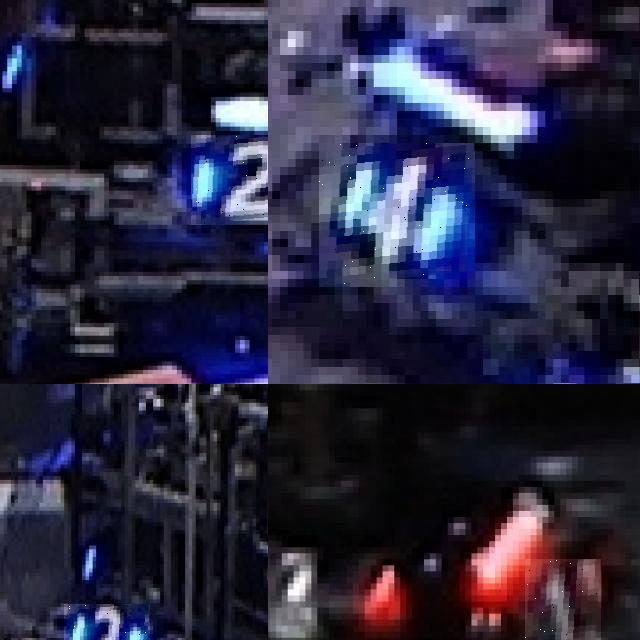B2: (191, 135, 268, 224), (64, 603, 149, 640)
B4: (319, 143, 475, 287)
R1: (268, 529, 394, 613), (524, 559, 601, 640)
